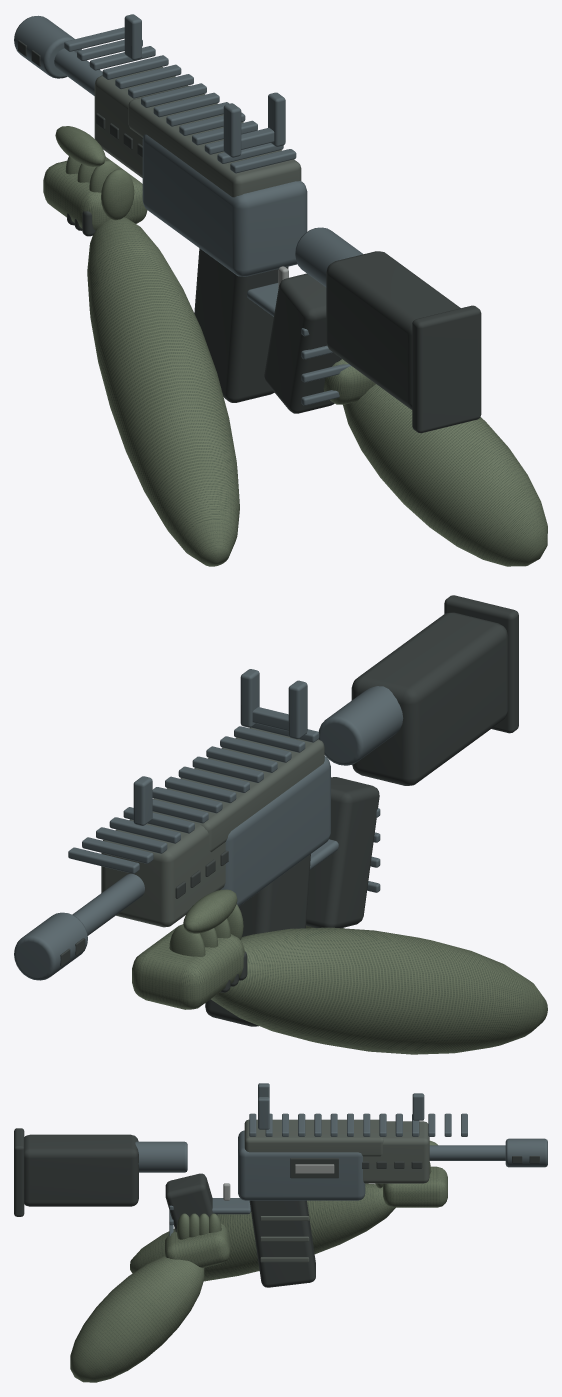
Rendered from weapon_1.glb.
The picture shows the model from 3 angles, top to bottom: view 1: azimuth 30°, elevation 25°; view 2: azimuth 150°, elevation 25°; view 3: azimuth 270°, elevation 25°; orthographic projection. The views are drawn at different scales.
Parts seen in each view (by area): view 1: Left sleeve, Right sleeve, Receiver, Adjustable stock, Magazine, Recoil pad, Pistol grip, Upper receiver, Handguard, Support hand, Buffer tube, Muzzle brake (+16 smaller); view 2: Left sleeve, Adjustable stock, Receiver, Pistol grip, Handguard, Support hand, Upper receiver, Buffer tube, Magazine, Muzzle brake, Recoil pad, Free floated barrel (+19 smaller); view 3: Right sleeve, Adjustable stock, Left sleeve, Receiver, Magazine, Upper receiver, Handguard, Trigger hand, Support hand, Pistol grip, Buffer tube, Free floated barrel (+6 smaller).
Part boxes in pixels (left/top/right/bottom): Left sleeve: left=87, top=217, right=239, bottom=566; Right sleeve: left=343, top=384, right=547, bottom=566; Receiver: left=142, top=134, right=307, bottom=276; Adjustable stock: left=326, top=251, right=460, bottom=409; Magazine: left=194, top=248, right=288, bottom=402; Recoil pad: left=412, top=305, right=481, bottom=433; Pistol grip: left=264, top=273, right=341, bottom=413; Upper receiver: left=128, top=85, right=301, bottom=197; Handguard: left=94, top=67, right=187, bottom=177; Support hand: left=43, top=157, right=147, bottom=230; Buffer tube: left=295, top=227, right=363, bottom=287; Muzzle brake: left=14, top=15, right=81, bottom=78; Left sleeve: left=211, top=927, right=547, bottom=1054; Adjustable stock: left=351, top=612, right=508, bottom=785; Receiver: left=220, top=756, right=330, bottom=906; Pistol grip: left=306, top=777, right=379, bottom=928; Handguard: left=101, top=819, right=225, bottom=927; Support hand: left=132, top=927, right=244, bottom=1009; Upper receiver: left=152, top=727, right=324, bottom=851; Buffer tube: left=318, top=686, right=403, bottom=765; Magazine: left=205, top=854, right=310, bottom=1026; Muzzle brake: left=14, top=912, right=87, bottom=980; Recoil pad: left=444, top=595, right=518, bottom=733; Free floated barrel: left=72, top=874, right=144, bottom=935; Right sleeve: left=70, top=1256, right=204, bottom=1382; Adjustable stock: left=24, top=1134, right=138, bottom=1206; Left sleeve: left=130, top=1183, right=395, bottom=1281; Receiver: left=238, top=1130, right=365, bottom=1200; Magazine: left=249, top=1200, right=315, bottom=1287; Upper receiver: left=244, top=1119, right=383, bottom=1156; Handguard: left=363, top=1121, right=429, bottom=1183; Trigger hand: left=165, top=1223, right=230, bottom=1267; Support hand: left=383, top=1166, right=447, bottom=1207; Pistol grip: left=165, top=1173, right=217, bottom=1232; Buffer tube: left=135, top=1141, right=187, bottom=1172; Free floated barrel: left=429, top=1145, right=505, bottom=1160.
Size of the model in its own units: 0.3579 by 0.426 by 0.8204.
6 materials, 2 textured.
